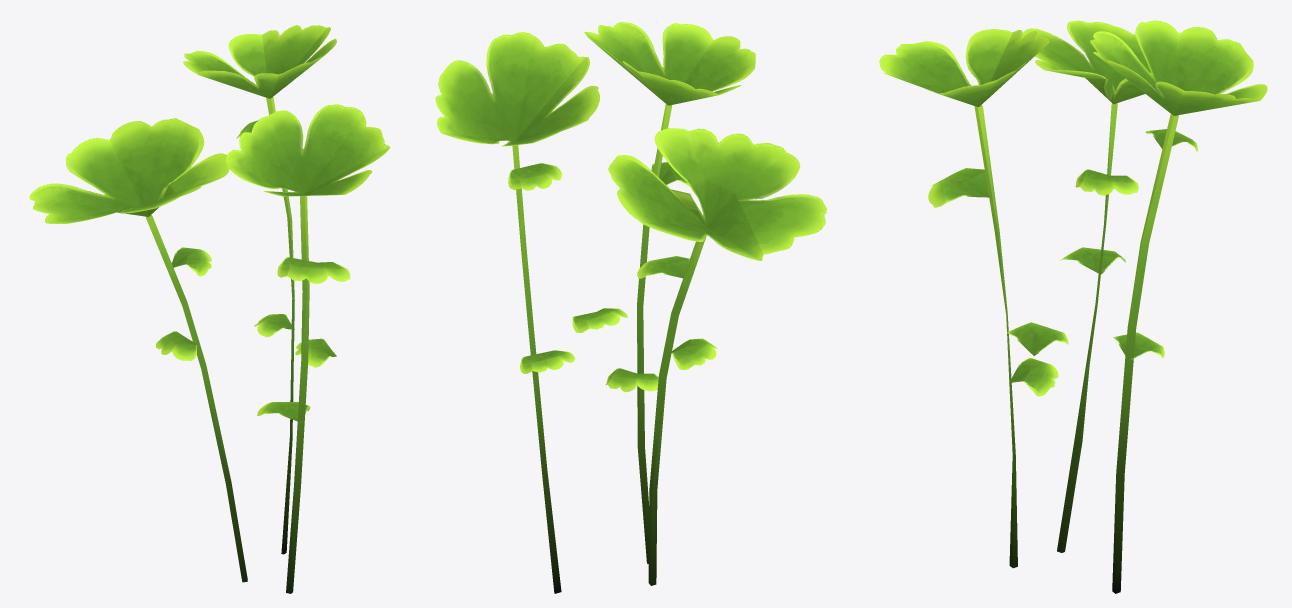
File: Clover_1.glb
The picture shows the model from 3 angles, left to right: view 1: azimuth 30°, elevation 25°; view 2: azimuth 150°, elevation 25°; view 3: azimuth 270°, elevation 25°; orthographic projection. The views are drawn at different scales.
Bounding box in the file's own units: 0.7963 × 1.14 × 0.7639.
Materials: 1 (1 with a texture image).
